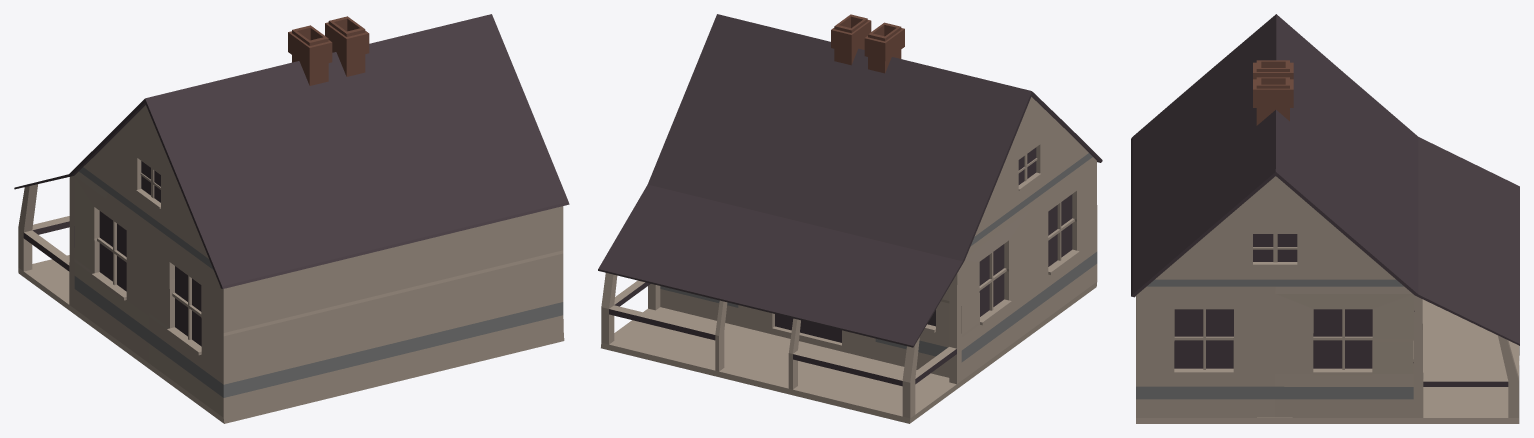
Rendered from Cabin_02.fbx.
3 renders of one model, left to right at view 1: azimuth 30°, elevation 25°; view 2: azimuth 150°, elevation 25°; view 3: azimuth 270°, elevation 25°, orthographic. The views are drawn at different scales.
Visible parts, largest first — view 1: Cube.010; view 2: Cube.010; view 3: Cube.010.
Part boxes in pixels (bbox=[...]): Cube.010: bbox=[14, 14, 569, 423]; Cube.010: bbox=[598, 14, 1102, 423]; Cube.010: bbox=[1131, 14, 1519, 423].
Bounding box in the file's own units: 1375 × 1126 × 1433.
